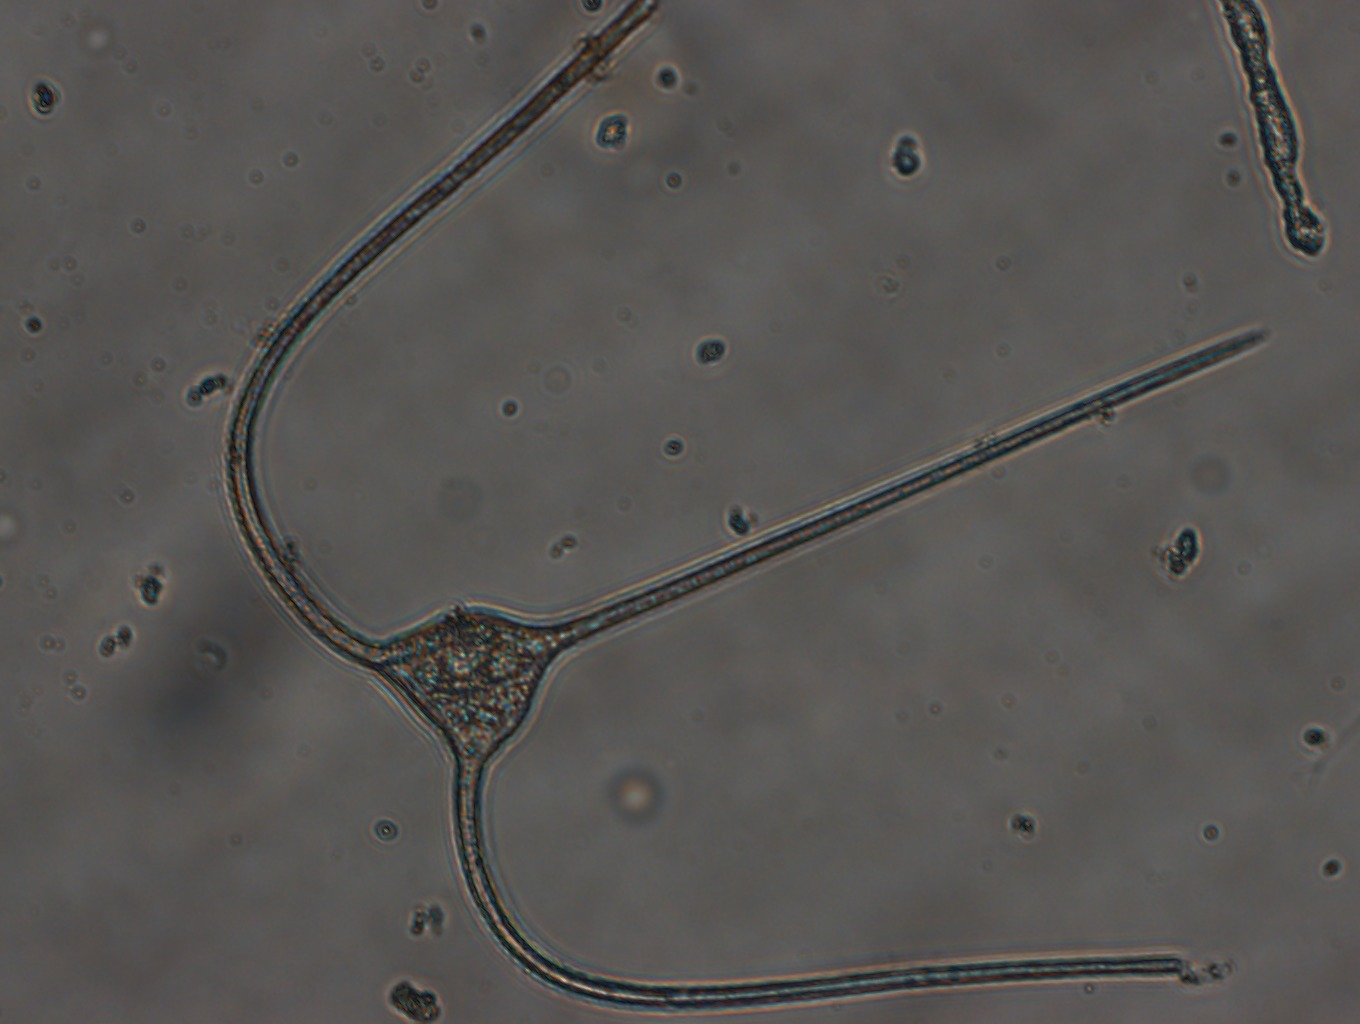ceratium trichoceros: (219, 10, 1269, 1008)
